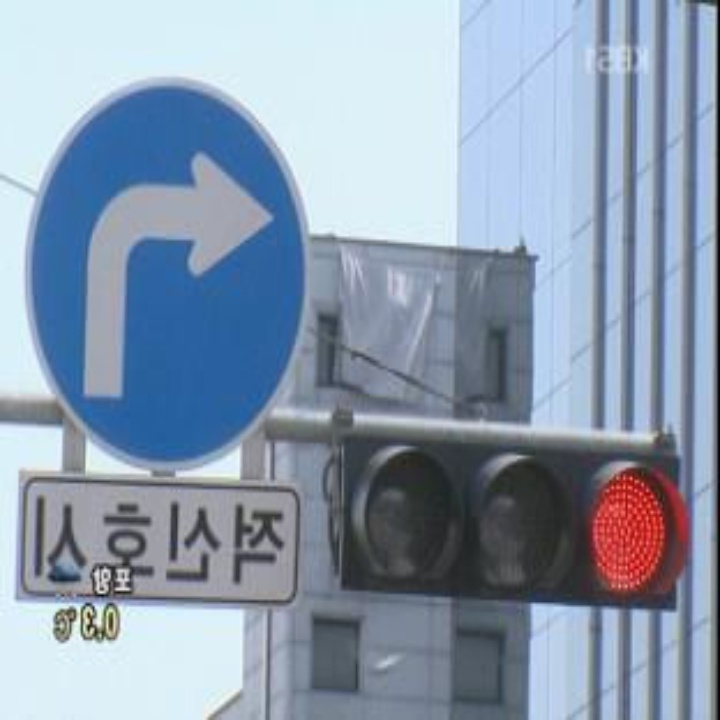right: (73, 133, 287, 412)
